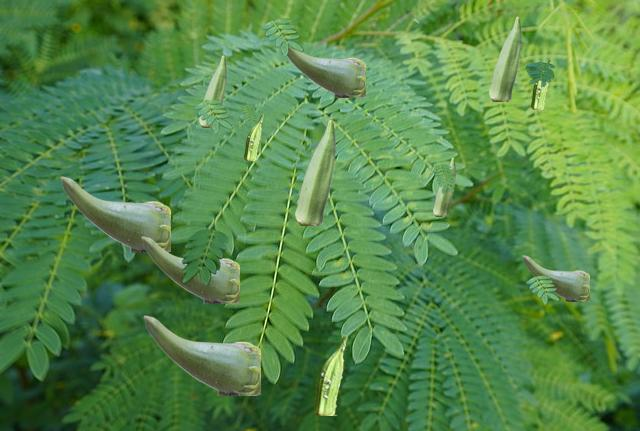okra: (143, 315, 259, 394), (60, 176, 169, 251), (141, 236, 238, 302), (295, 119, 334, 224), (287, 47, 364, 96), (522, 255, 588, 300), (489, 16, 520, 100), (314, 335, 346, 414), (199, 55, 225, 126), (433, 157, 454, 215), (531, 59, 550, 108), (244, 114, 262, 159)
